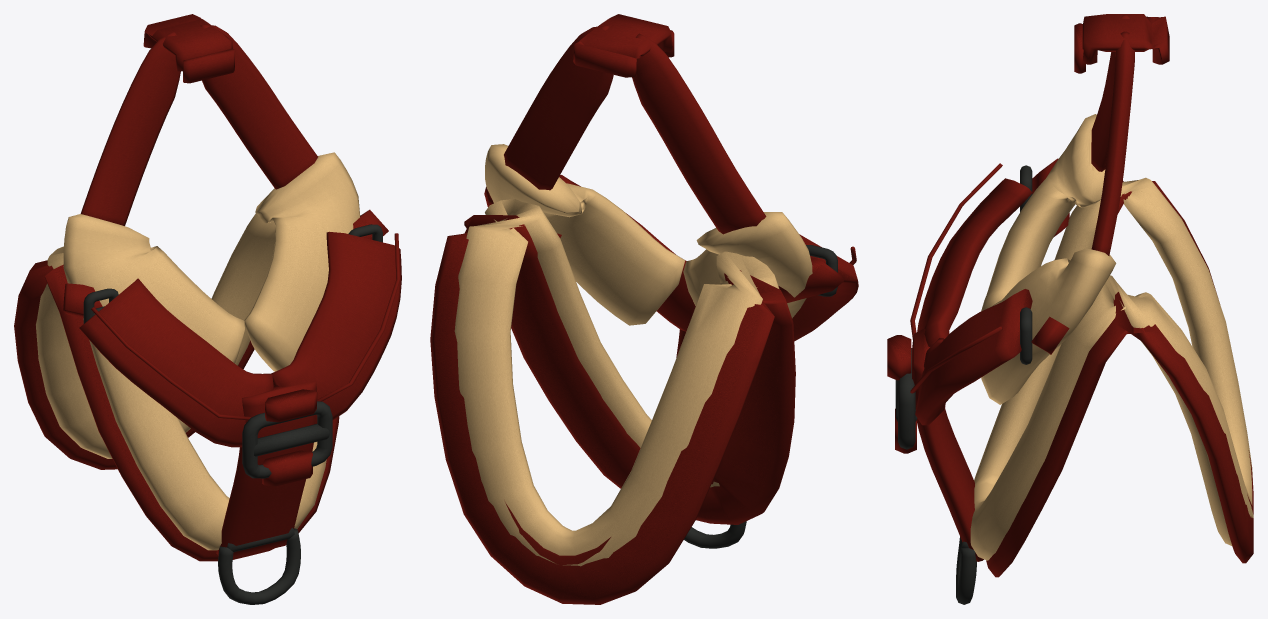
Rendered from PM_Harness_Rust.fbx.
3 renders of one model, left to right at view 1: azimuth 30°, elevation 25°; view 2: azimuth 150°, elevation 25°; view 3: azimuth 270°, elevation 25°, orthographic. The views are drawn at different scales.
Visible parts, largest first — view 1: PM_Harness_Rust; view 2: PM_Harness_Rust; view 3: PM_Harness_Rust.
Boxes of the visible parts, x1,y1,x2,y2 form: PM_Harness_Rust: [14, 14, 401, 604]; PM_Harness_Rust: [430, 14, 858, 604]; PM_Harness_Rust: [887, 14, 1253, 604].
Bounding box in the file's own units: 60.79 × 93.08 × 53.7.
Materials: 1 (1 with a texture image).
